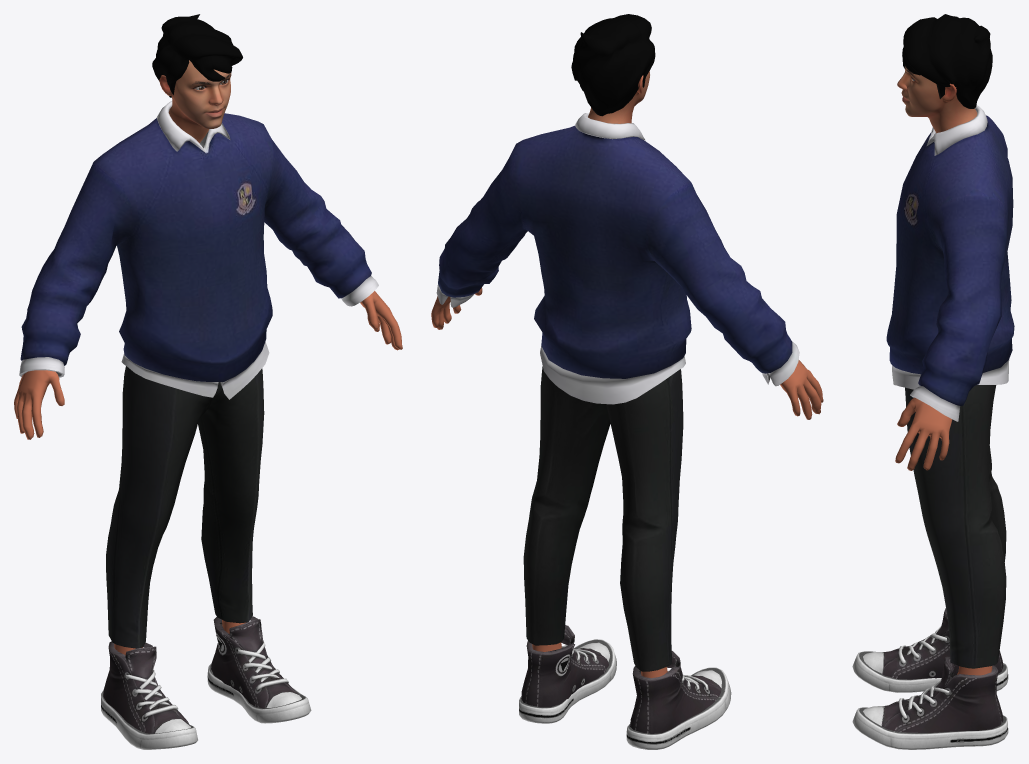
The model's file is nish.gltf.
The picture shows the model from 3 angles, left to right: view 1: azimuth 30°, elevation 25°; view 2: azimuth 150°, elevation 25°; view 3: azimuth 270°, elevation 25°; orthographic projection.
Parts seen in each view (by area): view 1: Wolf3D_Outfit_Top, Wolf3D_Outfit_Bottom, Wolf3D_Outfit_Footwear, Wolf3D_Hair, Wolf3D_Body, Wolf3D_Head; view 2: Wolf3D_Outfit_Top, Wolf3D_Outfit_Bottom, Wolf3D_Outfit_Footwear, Wolf3D_Hair, Wolf3D_Body, Wolf3D_Head; view 3: Wolf3D_Outfit_Top, Wolf3D_Outfit_Bottom, Wolf3D_Outfit_Footwear, Wolf3D_Hair, Wolf3D_Body, Wolf3D_Head.
Part boxes in pixels (box(x1,y1,x2,y2)): Wolf3D_Outfit_Top: box(19, 101, 378, 399); Wolf3D_Outfit_Bottom: box(106, 366, 264, 648); Wolf3D_Outfit_Footwear: box(101, 616, 311, 749); Wolf3D_Hair: box(152, 14, 242, 97); Wolf3D_Body: box(14, 291, 402, 655); Wolf3D_Head: box(159, 60, 231, 143); Wolf3D_Outfit_Top: box(436, 113, 799, 404); Wolf3D_Outfit_Bottom: box(523, 366, 683, 671); Wolf3D_Outfit_Footwear: box(519, 625, 731, 749); Wolf3D_Hair: box(571, 14, 655, 116); Wolf3D_Body: box(431, 287, 823, 678); Wolf3D_Head: box(588, 71, 649, 123); Wolf3D_Outfit_Top: box(886, 105, 1014, 421); Wolf3D_Outfit_Bottom: box(905, 385, 1006, 668); Wolf3D_Outfit_Footwear: box(852, 608, 1008, 749); Wolf3D_Hair: box(902, 14, 992, 108); Wolf3D_Body: box(895, 397, 992, 675); Wolf3D_Head: box(897, 66, 977, 133).
Size of the model in its own units: 1.06 by 1.87 by 0.3974.
9 materials, 9 textured.
